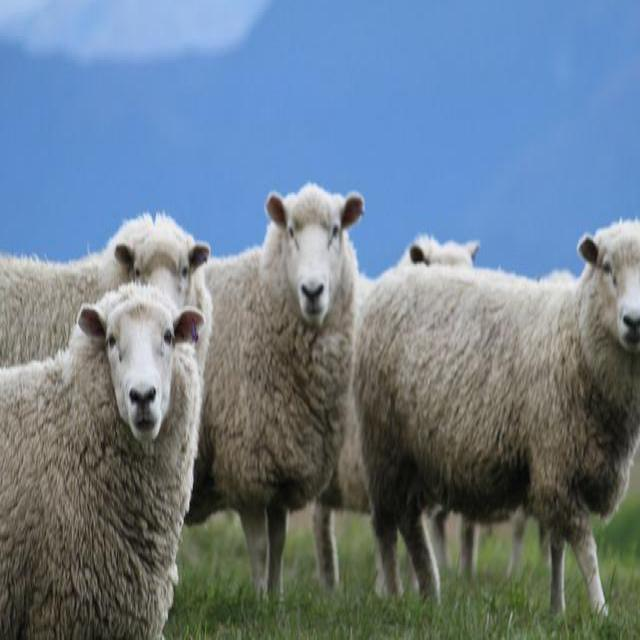Sheep: (354, 213, 639, 631), (3, 274, 210, 634), (192, 187, 364, 594), (1, 212, 212, 374)
